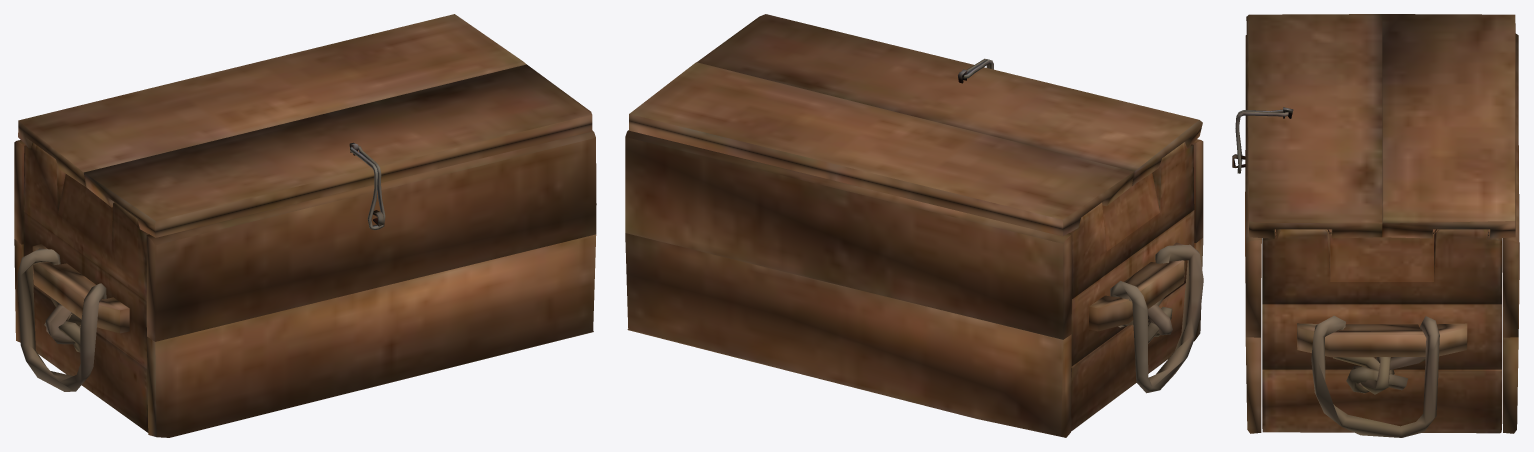
The model's file is crate.glb.
3 renders of one model, left to right at view 1: azimuth 30°, elevation 25°; view 2: azimuth 150°, elevation 25°; view 3: azimuth 270°, elevation 25°, orthographic. The views are drawn at different scales.
Visible parts, largest first — view 1: wooden_crate_01, wooden_crate_01_lid, wooden_crate_01_latch; view 2: wooden_crate_01, wooden_crate_01_lid; view 3: wooden_crate_01_lid, wooden_crate_01, wooden_crate_01_latch.
Part boxes in pixels (box(x1,y1,x2,y2)): wooden_crate_01: box(14, 131, 596, 437); wooden_crate_01_lid: box(18, 14, 592, 237); wooden_crate_01_latch: box(350, 145, 385, 229); wooden_crate_01: box(625, 130, 1203, 437); wooden_crate_01_lid: box(629, 14, 1202, 236); wooden_crate_01_lid: box(1246, 14, 1515, 238); wooden_crate_01: box(1232, 33, 1519, 437); wooden_crate_01_latch: box(1235, 109, 1288, 173).
Size of the model in its own units: 0.8245 by 0.3469 by 0.4056.
1 material, 1 textured.
